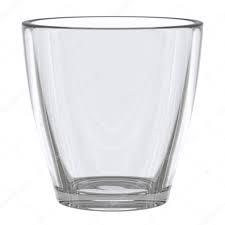glass: (12, 7, 203, 215), (217, 186, 217, 186)
